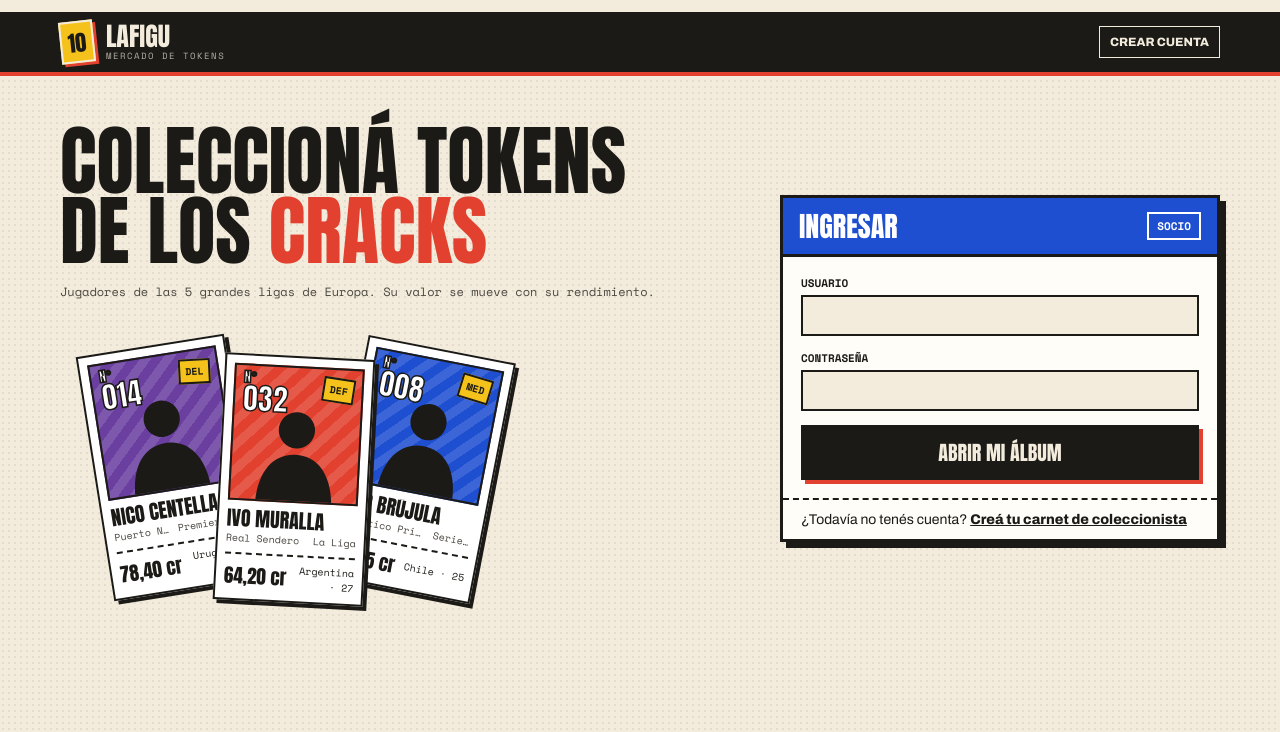
LoginPage › shows invalid credentials
This screenshot has width=1280, height=732.
Type "abril" into the field labelled "Usuario" at (1000, 315), box [801,294,1199,336]
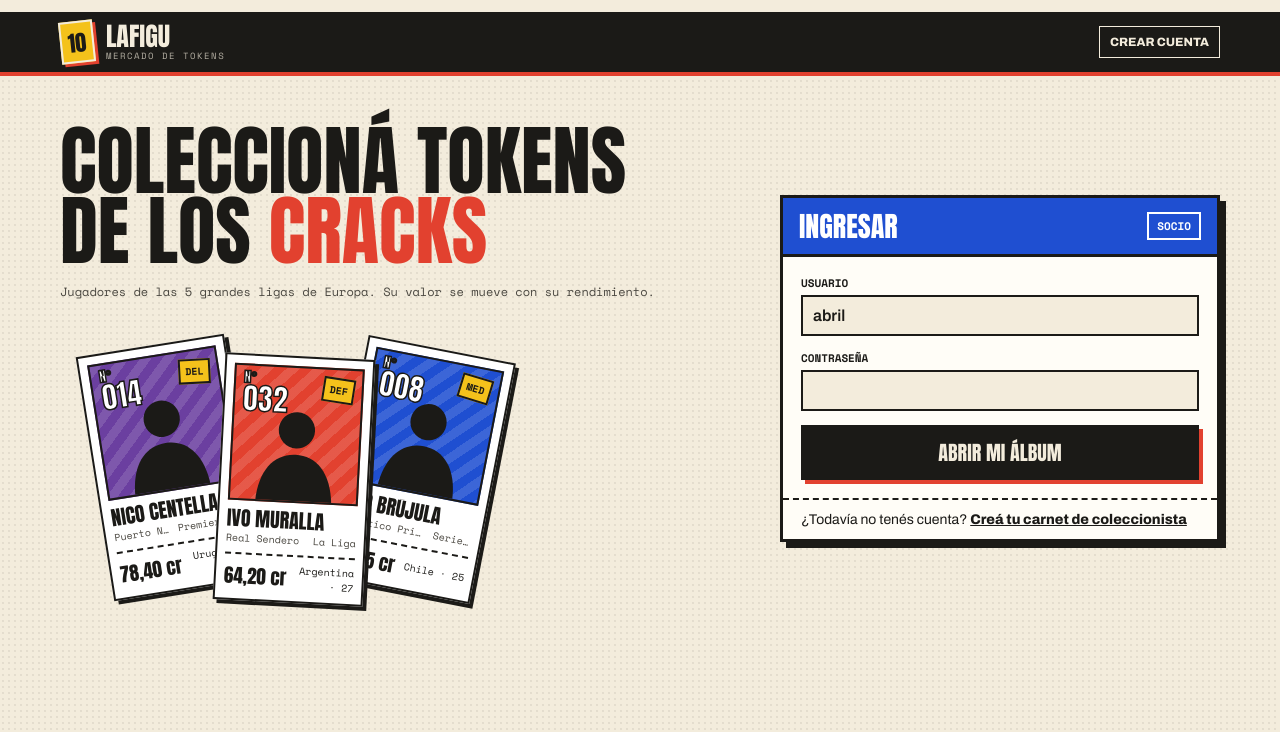
Type "secreto123" into the password field labelled "Contraseña" at (1000, 390), box [801,370,1199,410]
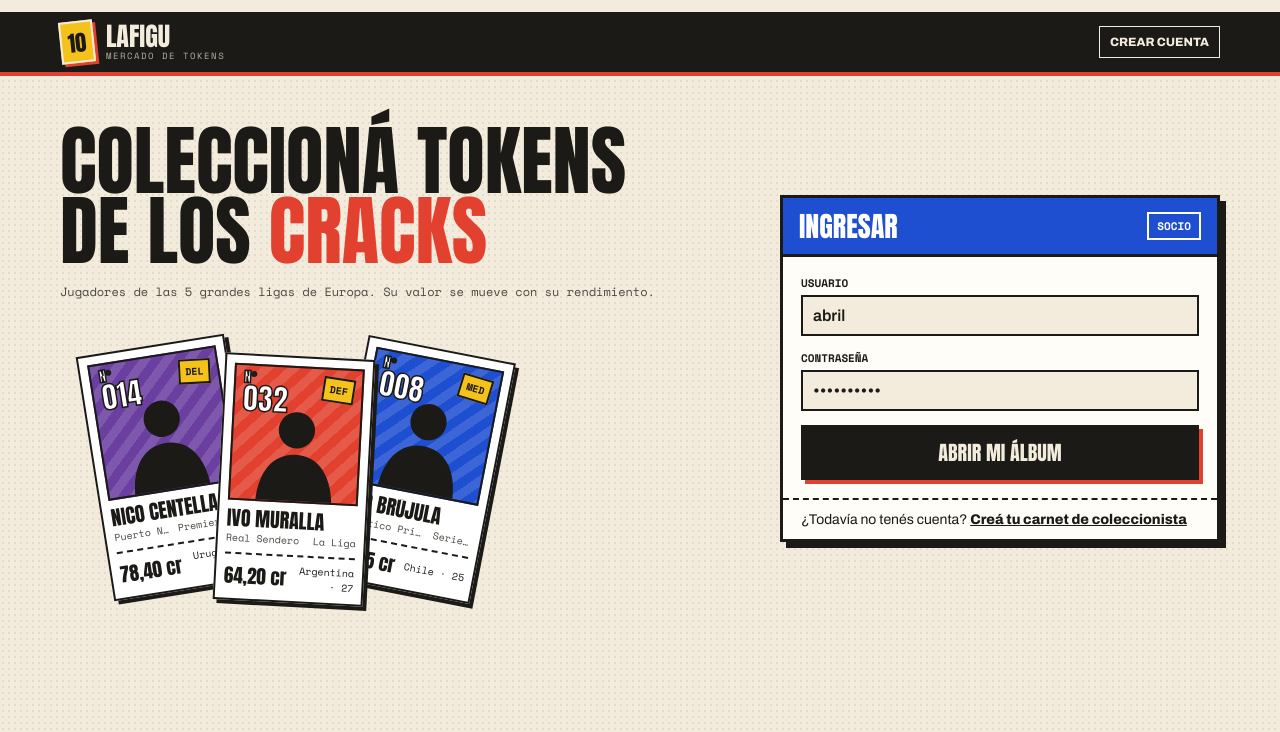
Submit the form "Abrir mi álbum", box [801,274,1199,480]
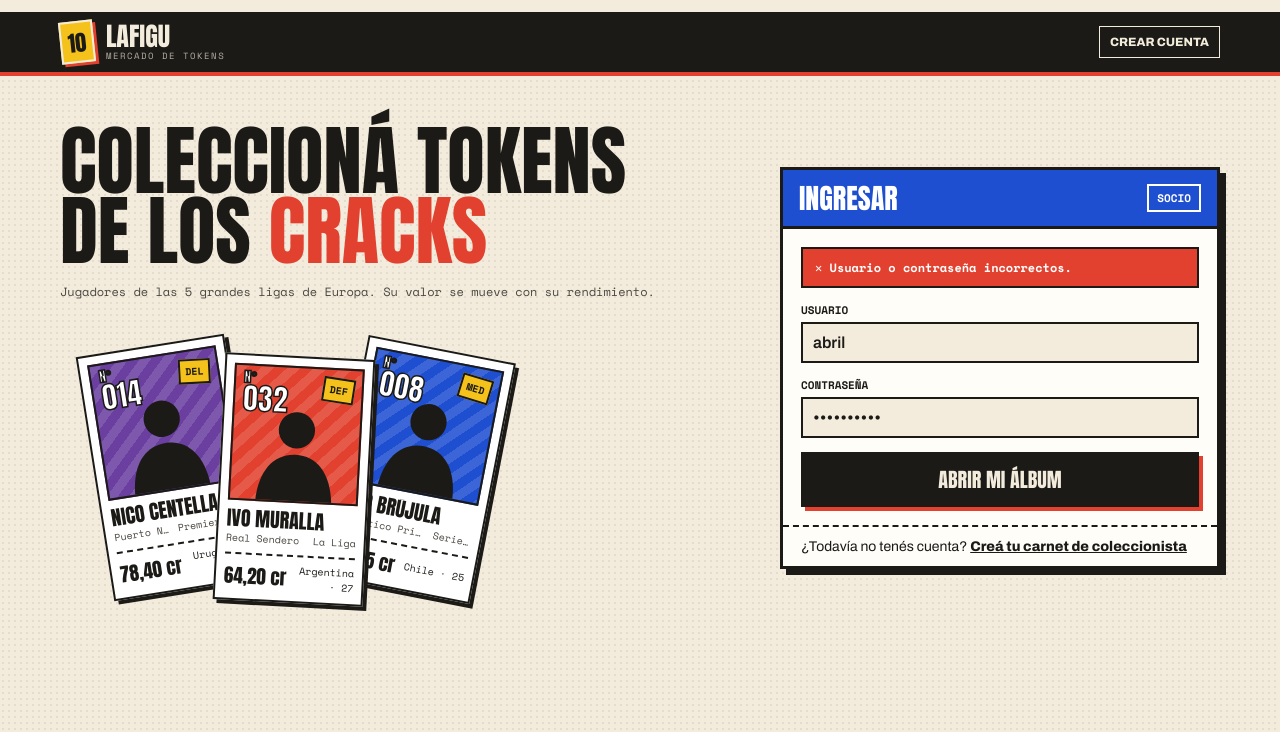
Expected: the message reads "✕ Usuario o contraseña incorrectos.", [815,259,1072,276]
